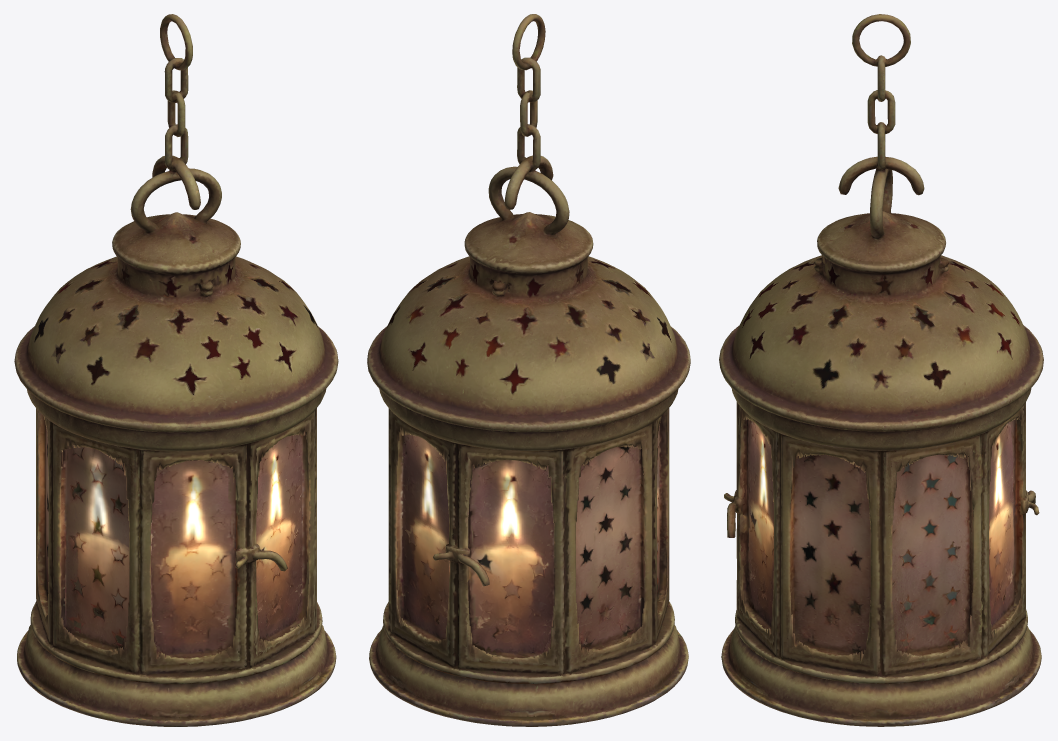
Rendered from Star_Lantern.fbx.
3 renders of one model, left to right at view 1: azimuth 30°, elevation 25°; view 2: azimuth 150°, elevation 25°; view 3: azimuth 270°, elevation 25°, orthographic.
Visible parts, largest first — view 1: Star_Lantern_LOD0; view 2: Star_Lantern_LOD0; view 3: Star_Lantern_LOD0.
Boxes of the visible parts, bbox=[...] form: Star_Lantern_LOD0: bbox=[14, 14, 338, 726]; Star_Lantern_LOD0: bbox=[367, 14, 690, 726]; Star_Lantern_LOD0: bbox=[719, 14, 1043, 726].
Size of what is drawn, in the model's own units: 0.8662 by 1.9 by 0.8663.
1 material, 1 textured.
